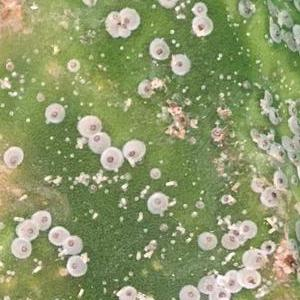Femea: (112, 13, 133, 30), (241, 270, 260, 287), (33, 211, 51, 228), (82, 116, 98, 132), (103, 149, 116, 168), (171, 53, 186, 69), (49, 227, 65, 242), (18, 223, 35, 237), (68, 258, 82, 274), (15, 241, 28, 258), (63, 237, 80, 250), (152, 38, 164, 56), (91, 135, 106, 149), (196, 18, 207, 37), (151, 194, 164, 210), (246, 254, 262, 267), (269, 22, 279, 42), (226, 271, 237, 289), (265, 188, 277, 204), (200, 233, 214, 246), (225, 233, 237, 248), (240, 220, 252, 235), (209, 289, 227, 299), (126, 142, 137, 157), (239, 3, 251, 16), (181, 287, 194, 299), (203, 280, 215, 293), (7, 150, 17, 164), (49, 107, 60, 119), (275, 147, 283, 162), (276, 172, 285, 185)
Linfa: (0, 74, 13, 87), (134, 208, 144, 221), (137, 188, 149, 197), (42, 174, 54, 183), (165, 180, 178, 186), (172, 4, 180, 13), (215, 51, 223, 60), (80, 178, 89, 186), (95, 173, 102, 183), (173, 13, 185, 18), (81, 171, 89, 178), (91, 211, 99, 218), (121, 182, 128, 190), (177, 2, 186, 8), (144, 182, 151, 189), (119, 197, 127, 203), (7, 109, 14, 115), (199, 83, 205, 90), (217, 72, 223, 79), (225, 73, 231, 80), (58, 95, 65, 101), (184, 0, 192, 5), (24, 116, 30, 122), (241, 209, 248, 214), (91, 174, 96, 181), (118, 43, 123, 50), (169, 26, 173, 34), (173, 42, 181, 46), (73, 176, 78, 182), (99, 168, 104, 174), (0, 101, 6, 106), (100, 176, 107, 180), (171, 38, 175, 44), (132, 195, 138, 199), (13, 91, 18, 95)
